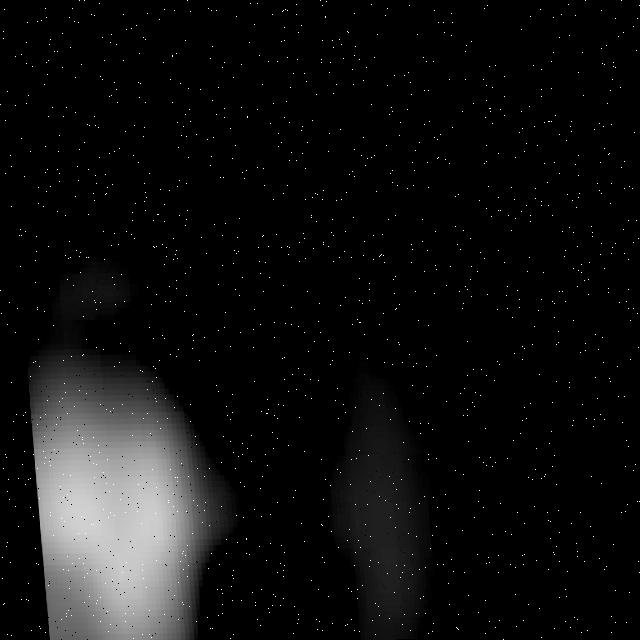person: (17, 306, 224, 640)
